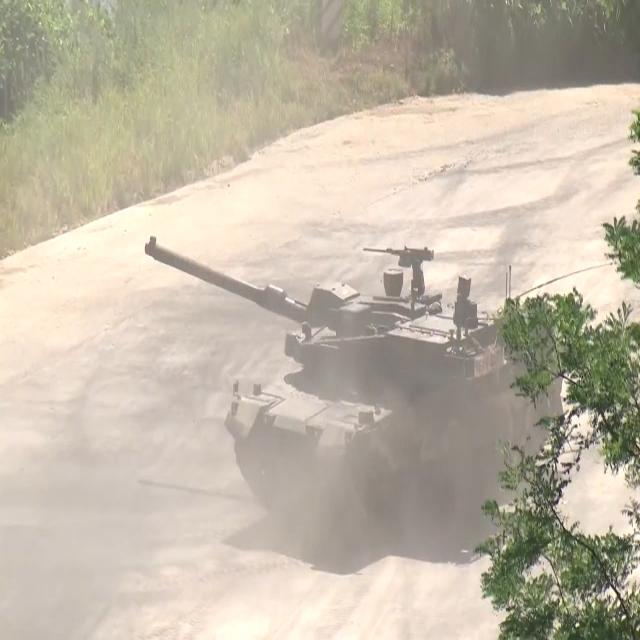korea tank: (143, 232, 569, 543)
